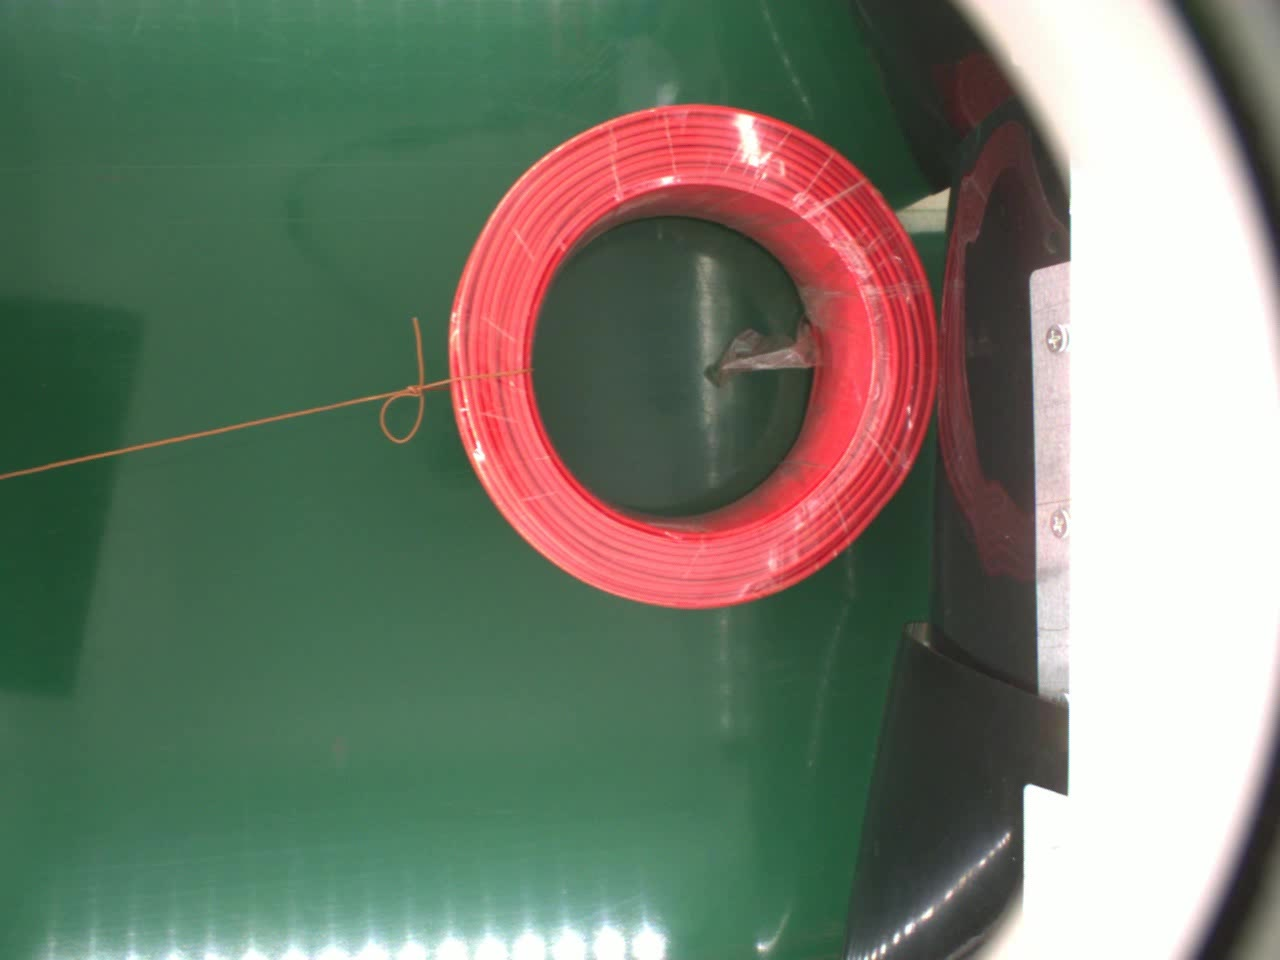red: (440, 96, 942, 614)
